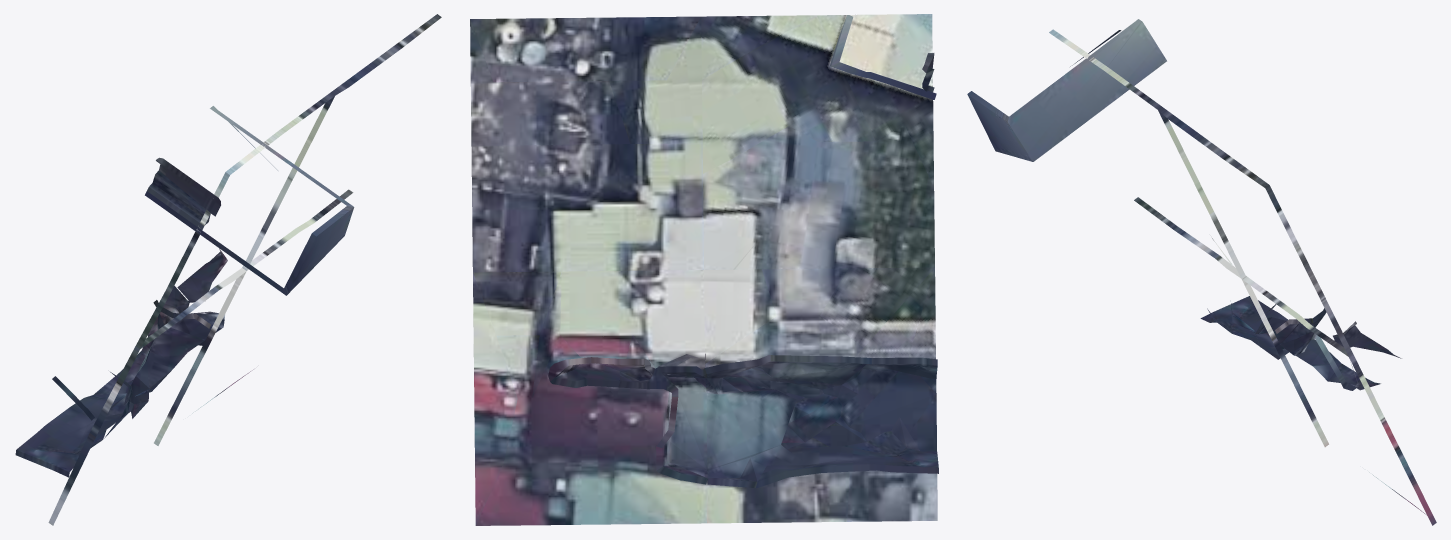
3 views of the same model, side by side, from view 1: azimuth 30°, elevation 25°; view 2: azimuth 150°, elevation 25°; view 3: azimuth 270°, elevation 25° (orthographic). The views are drawn at different scales.
Bounding box in the file's own units: 40.04 × 37.03 × 38.51.
1 material, 1 textured.
